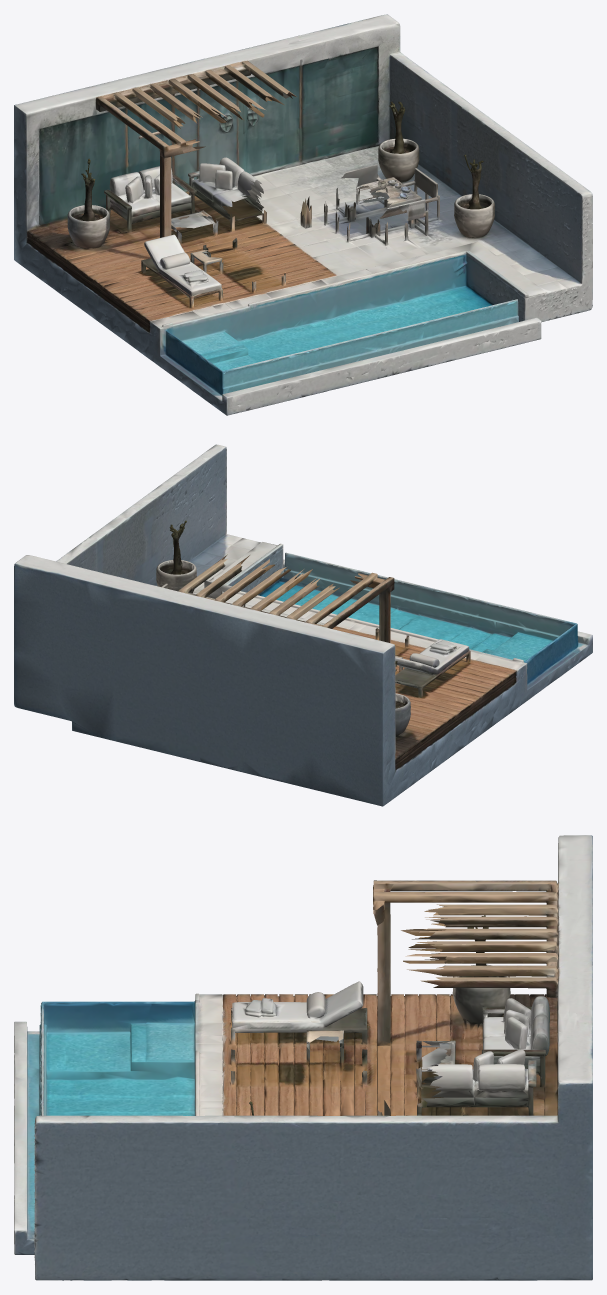
Rendered from terrasse.glb.
The picture shows the model from 3 angles, top to bottom: view 1: azimuth 30°, elevation 25°; view 2: azimuth 150°, elevation 25°; view 3: azimuth 270°, elevation 25°; orthographic projection. The views are drawn at different scales.
Visible parts, largest first — view 1: tripo_node_112a7d29-f9f0-49b4-b5aa-dbe7923f8132; view 2: tripo_node_112a7d29-f9f0-49b4-b5aa-dbe7923f8132; view 3: tripo_node_112a7d29-f9f0-49b4-b5aa-dbe7923f8132.
Boxes of the visible parts, x1,y1,x2,y2 form: tripo_node_112a7d29-f9f0-49b4-b5aa-dbe7923f8132: [14, 14, 592, 415]; tripo_node_112a7d29-f9f0-49b4-b5aa-dbe7923f8132: [14, 444, 592, 806]; tripo_node_112a7d29-f9f0-49b4-b5aa-dbe7923f8132: [14, 835, 592, 1280].
Bounding box in the file's own units: 0.9809 × 0.3918 × 0.9677.
1 material, 1 textured.
